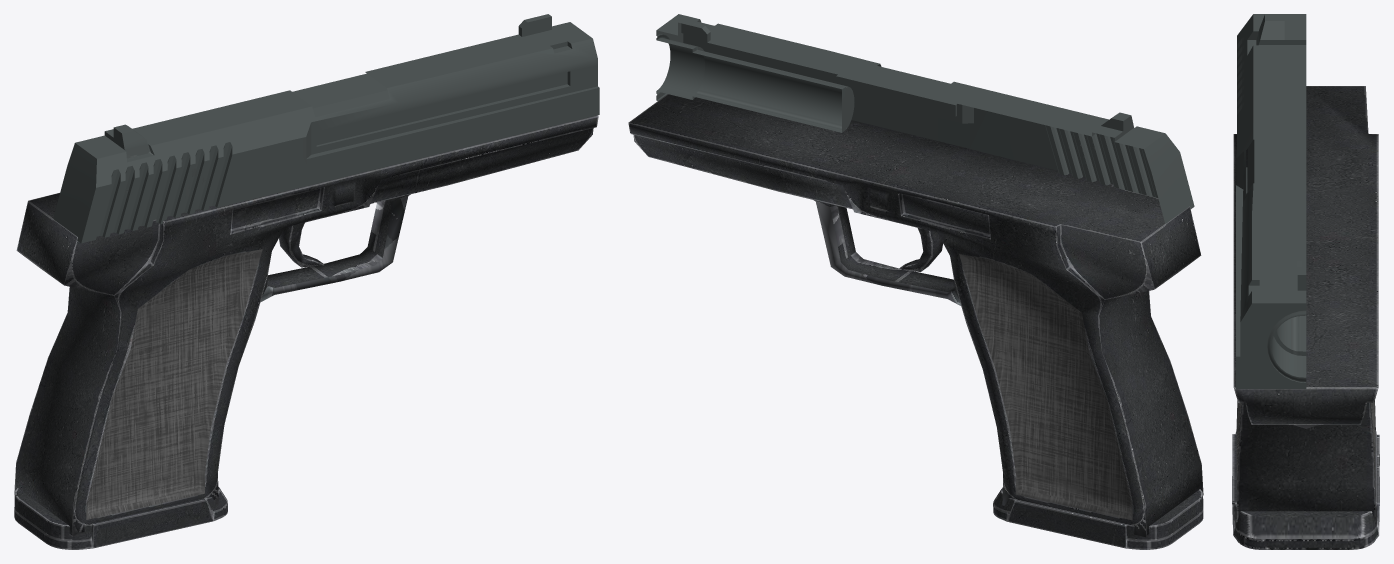
The model's file is pistol.glb.
3 views of the same model, side by side, from view 1: azimuth 30°, elevation 25°; view 2: azimuth 150°, elevation 25°; view 3: azimuth 270°, elevation 25° (orthographic). The views are drawn at different scales.
Parts seen in each view (by area): view 1: Cube, Cube.001, Cube.005, Cube.006, Cube.002, Cube.011; view 2: Cube, Cube.001, Cube.005, Cube.002, Cube.006, Cube.011; view 3: Cube, Cube.001, Cube.002, Cube.006, Cube.005.
Part boxes in pixels (box(x1,y1,x2,y2)): Cube: box(14, 115, 598, 536); Cube.001: box(53, 14, 599, 243); Cube.005: box(14, 498, 227, 549); Cube.006: box(292, 73, 389, 117); Cube.002: box(14, 487, 227, 540); Cube.011: box(279, 222, 324, 267); Cube: box(628, 94, 1203, 537); Cube.001: box(656, 14, 1194, 223); Cube.005: box(993, 500, 1203, 549); Cube.002: box(993, 488, 1203, 540); Cube.006: box(836, 66, 956, 105); Cube.011: box(898, 228, 942, 271); Cube: box(1233, 86, 1378, 522); Cube.001: box(1236, 14, 1306, 388); Cube.002: box(1235, 430, 1376, 538); Cube.006: box(1247, 139, 1306, 191); Cube.005: box(1232, 434, 1379, 549).
Bounding box in the file's own units: 4.1 × 2.9 × 0.8142.
3 materials, 3 textured.
